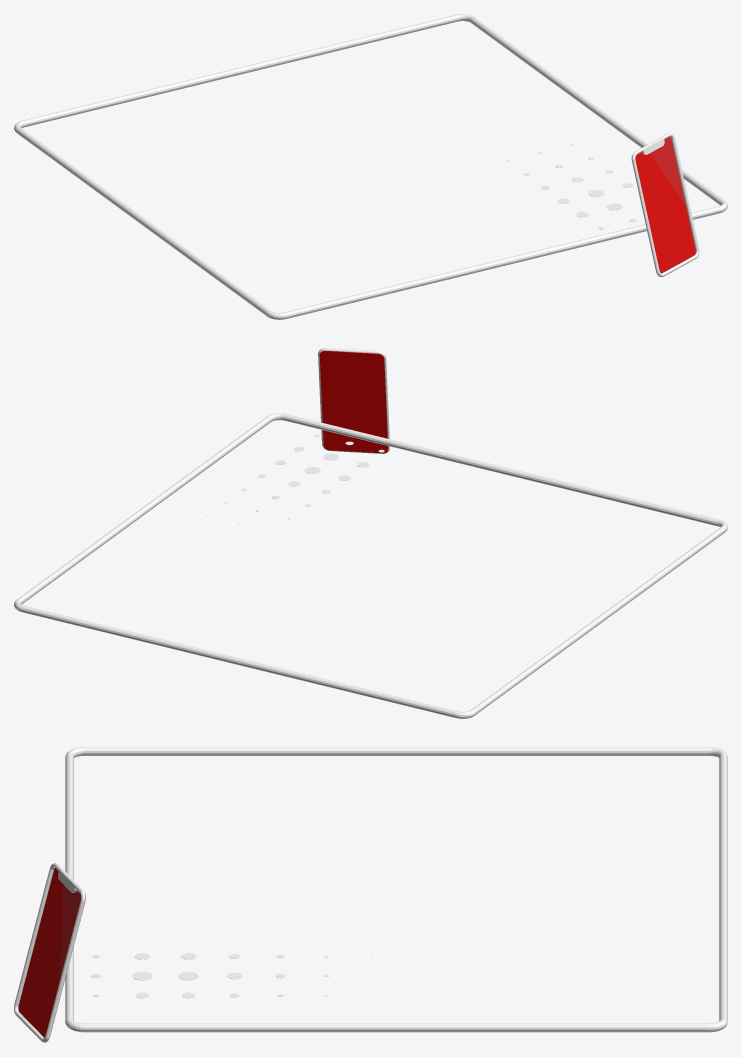
Rendered from Iphone.FBX.
3 views of the same model, one above another, from view 1: azimuth 30°, elevation 25°; view 2: azimuth 150°, elevation 25°; view 3: azimuth 270°, elevation 25° (orthographic). The views are drawn at different scales.
Parts seen in each view (by area): view 1: Frame, DepthMask, Iphone, Reflection; view 2: Frame, DepthMask, Iphone; view 3: Frame, DepthMask, Iphone, Reflection.
Part boxes in pixels (x1=…): Frame: x1=14, y1=14, x2=727, y2=319; DepthMask: x1=635, y1=137, x2=695, y2=273; Iphone: x1=631, y1=133, x2=699, y2=277; Reflection: x1=651, y1=137, x2=686, y2=205; Frame: x1=14, y1=413, x2=727, y2=718; DepthMask: x1=319, y1=350, x2=388, y2=453; Iphone: x1=318, y1=348, x2=389, y2=453; Frame: x1=65, y1=747, x2=727, y2=1032; DepthMask: x1=18, y1=868, x2=85, y2=1037; Iphone: x1=14, y1=863, x2=85, y2=1042; Reflection: x1=60, y1=886, x2=80, y2=976.
Size of what is drawn, in the model's own units: 20.94 by 5.08 by 22.56.
